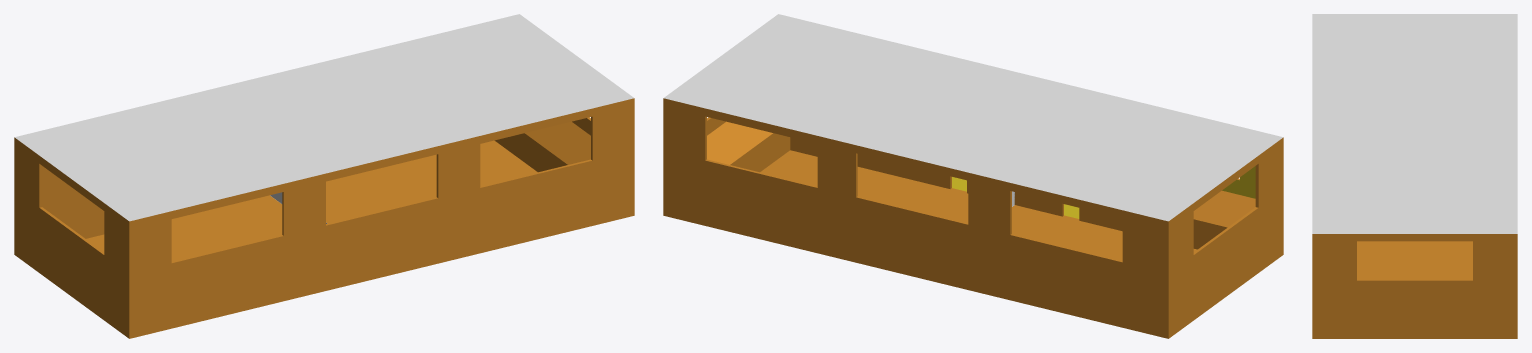
File: Salle_V1.fbx
3 views of the same model, side by side, from view 1: azimuth 30°, elevation 25°; view 2: azimuth 150°, elevation 25°; view 3: azimuth 270°, elevation 25° (orthographic). The views are drawn at different scales.
Parts seen in each view (by area): view 1: Roof, Wall_Left-Outside, Ground_Court, Wall_Front-Outside, Wall_Right, Gallery_Back-Up, Embrasures, Wall_Back-Bottom; view 2: Roof, Wall_Right-Outside, Wall_Front-Outside, Ground_Court, Wall_Left-Bottom, Gallery_Back-Up, Gallery_Left-Up, Embrasures, Wall_Back-Bottom, Wall_Left-Top; view 3: Roof, Wall_Back-Outside, Ground_Court, Embrasures.
Part boxes in pixels (x1,y1,x2,y2): Roof: (14, 14, 634, 221); Wall_Left-Outside: (129, 98, 634, 338); Ground_Court: (86, 140, 537, 261); Wall_Front-Outside: (14, 137, 129, 338); Wall_Right: (42, 166, 104, 238); Gallery_Back-Up: (525, 121, 590, 164); Embrasures: (39, 116, 592, 262); Wall_Back-Bottom: (494, 133, 567, 172); Roof: (663, 14, 1283, 221); Wall_Right-Outside: (663, 98, 1168, 338); Wall_Front-Outside: (1168, 137, 1283, 338); Ground_Court: (760, 150, 1197, 260); Wall_Left-Bottom: (790, 137, 1227, 249); Gallery_Back-Up: (707, 121, 772, 164); Gallery_Left-Up: (1193, 190, 1255, 227); Embrasures: (705, 116, 1258, 262); Wall_Back-Bottom: (730, 133, 790, 172); Wall_Left-Top: (1222, 166, 1255, 198); Roof: (1312, 14, 1517, 233); Wall_Back-Outside: (1312, 234, 1517, 338); Ground_Court: (1357, 241, 1472, 279); Embrasures: (1357, 279, 1472, 280).
Bounding box in the file's own units: 36 × 8 × 14.2.
